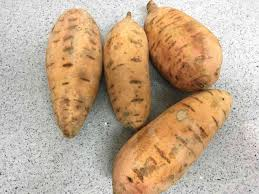Sweet Potato: (98, 90, 242, 193), (43, 5, 117, 125), (134, 1, 230, 91), (103, 16, 154, 119)
